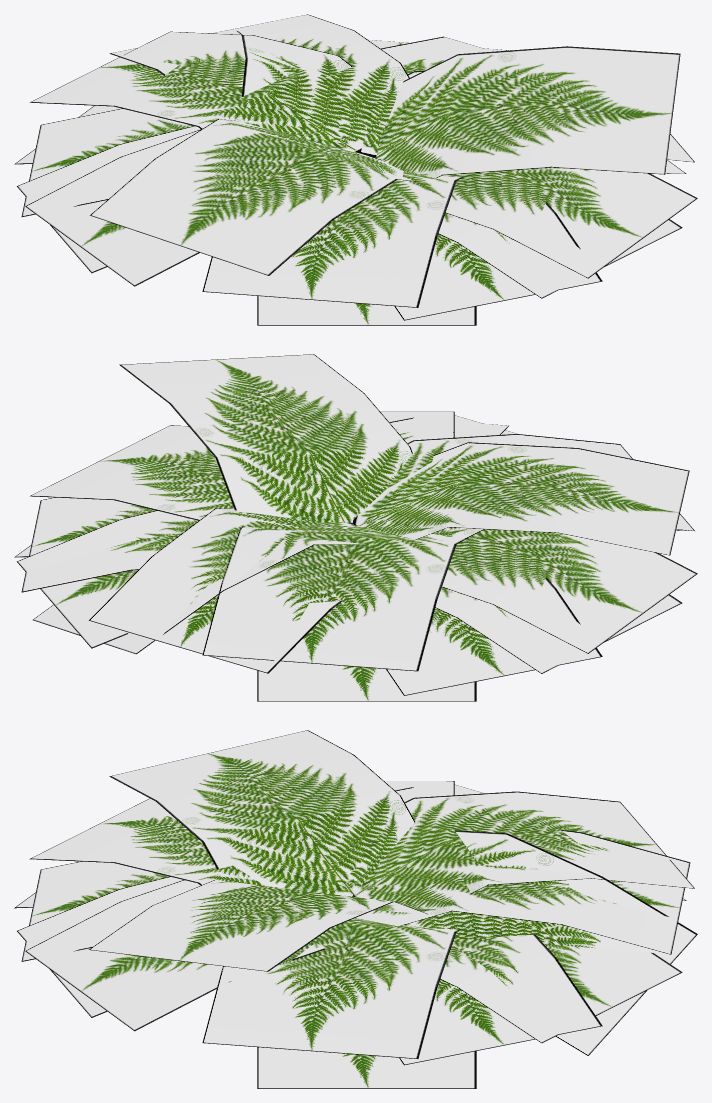
Rendered from fougère_4.FBX.
The picture shows the model from 3 angles, top to bottom: view 1: azimuth 30°, elevation 25°; view 2: azimuth 150°, elevation 25°; view 3: azimuth 270°, elevation 25°; orthographic projection.
Parts seen in each view (by area): view 1: Plane469; view 2: Plane469; view 3: Plane469.
Part boxes in pixels (x1,y1,x2,y2): Plane469: (14, 14, 697, 325); Plane469: (14, 354, 697, 701); Plane469: (14, 730, 697, 1088).
Bounding box in the file's own units: 269 × 54.18 × 270.
